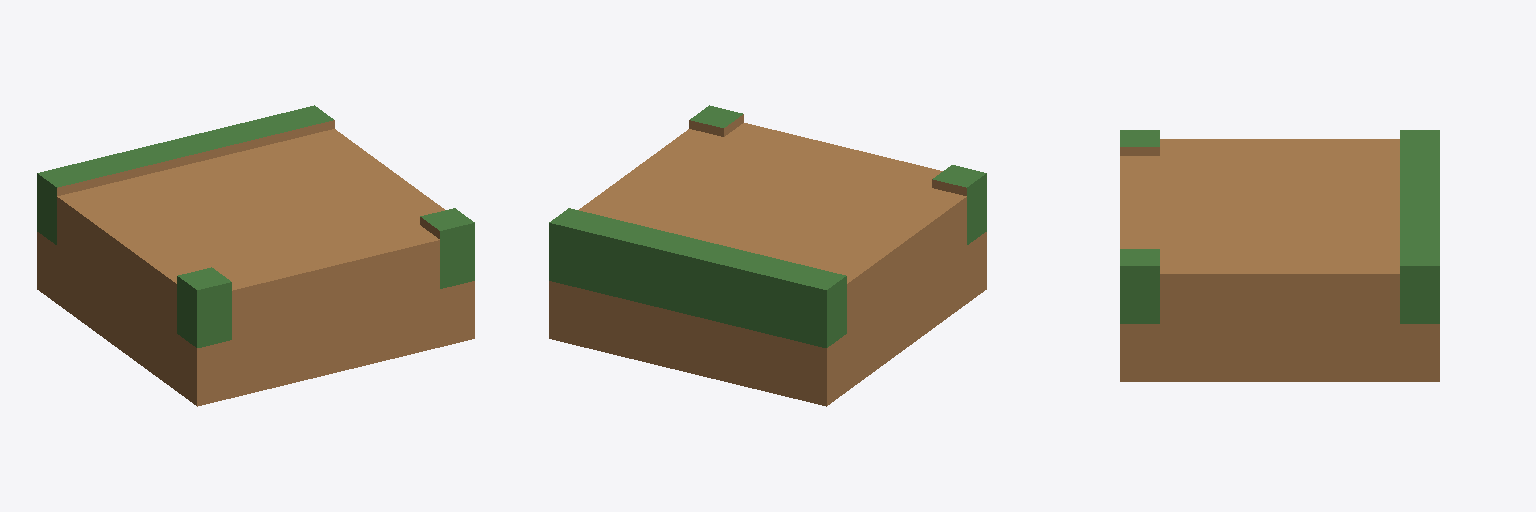
File: tile_099.obj
3 views of the same model, side by side, from view 1: azimuth 30°, elevation 25°; view 2: azimuth 150°, elevation 25°; view 3: azimuth 270°, elevation 25° (orthographic).
Visible parts, largest first — view 1: tile_099; view 2: tile_099; view 3: tile_099.
Boxes of the visible parts, <box> form: tile_099: <box>37,105,474,406</box>; tile_099: <box>549,105,986,406</box>; tile_099: <box>1120,130,1439,381</box>.
Bounding box in the file's own units: 1 × 0.4 × 1.